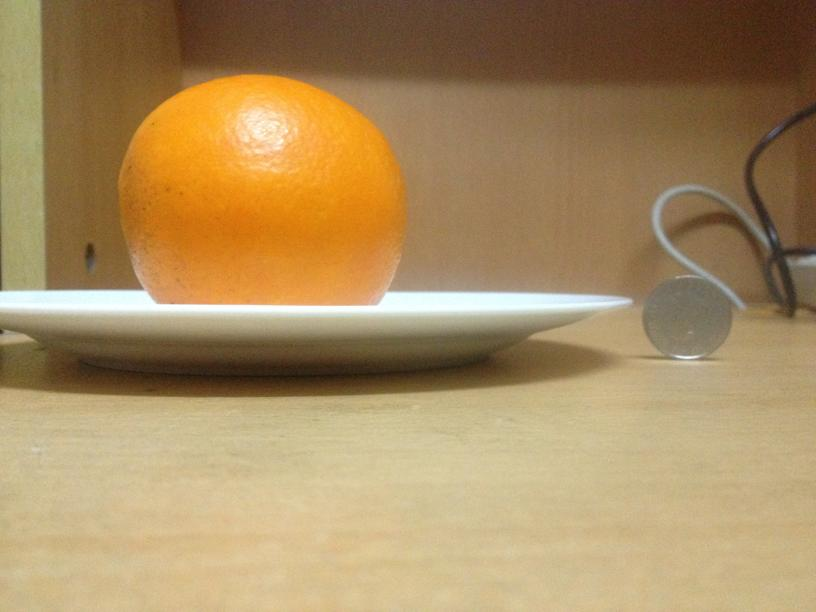coin: (641, 274, 731, 359)
orange: (115, 75, 403, 303)
